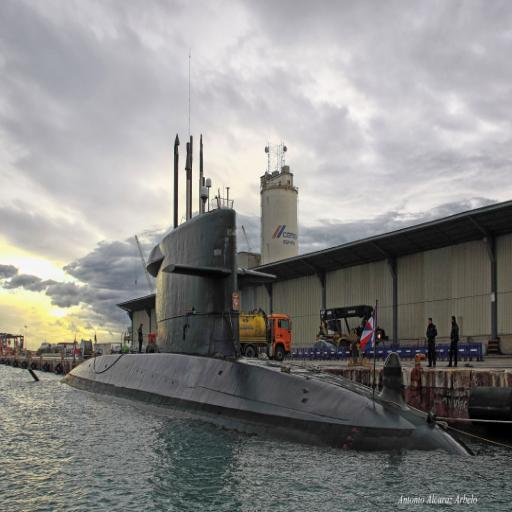submarine: (59, 132, 472, 458)
